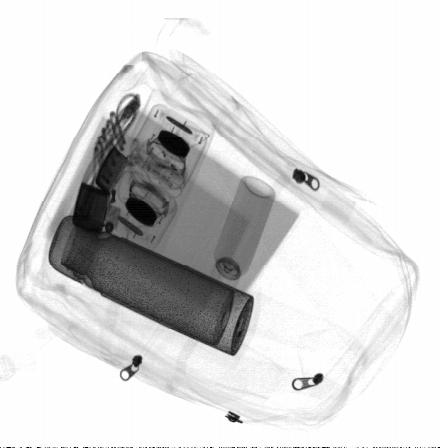Lighter: (72, 145, 127, 235)
Sprayer: (208, 176, 276, 298)
